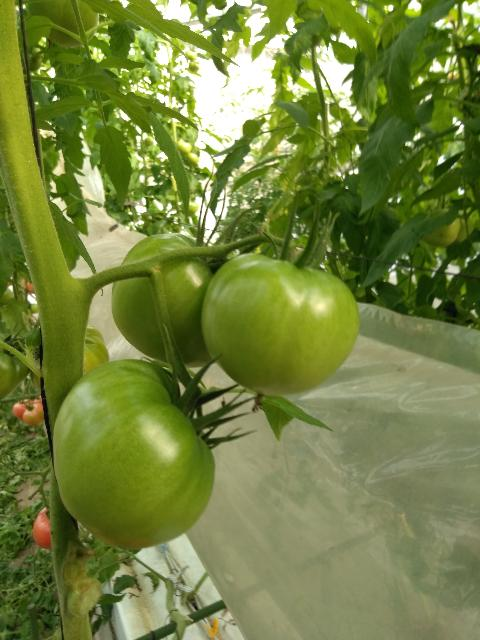b_fully_ripened: (32, 506, 52, 549)
b_green: (52, 359, 215, 550), (200, 252, 360, 396), (111, 234, 229, 368), (28, 320, 110, 396), (26, 0, 99, 48), (0, 332, 30, 398), (423, 208, 460, 247)
b_half_ripened: (23, 403, 44, 426)
